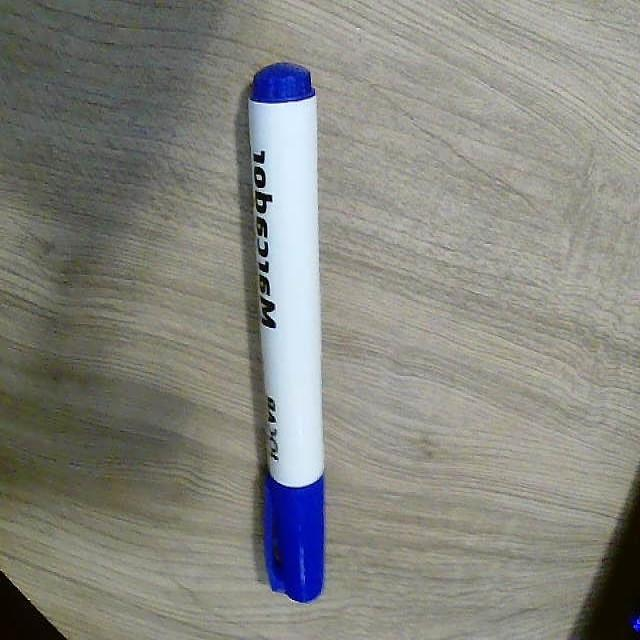caneta: (237, 31, 345, 621)
